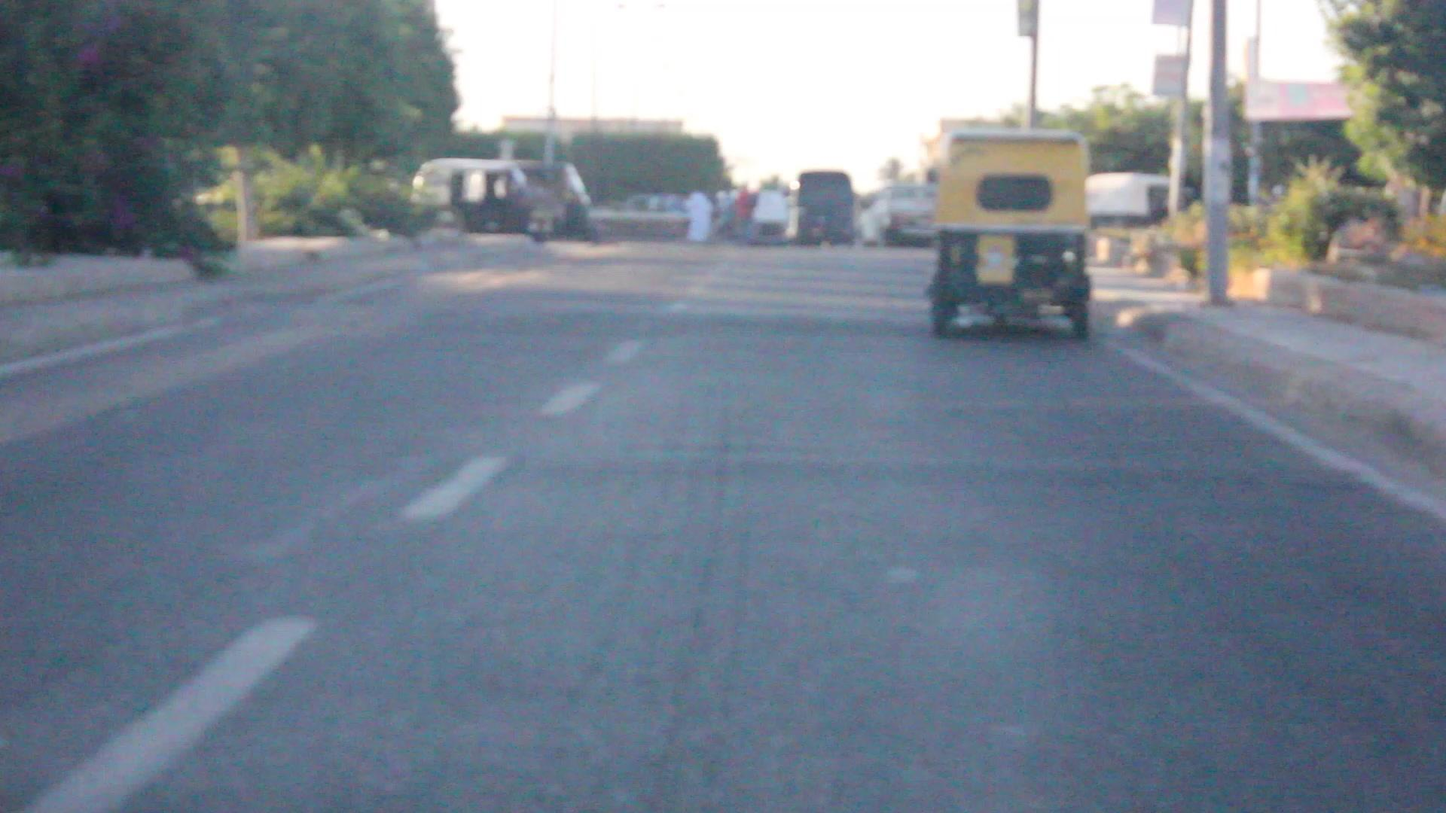Bump: (505, 299, 934, 346)
